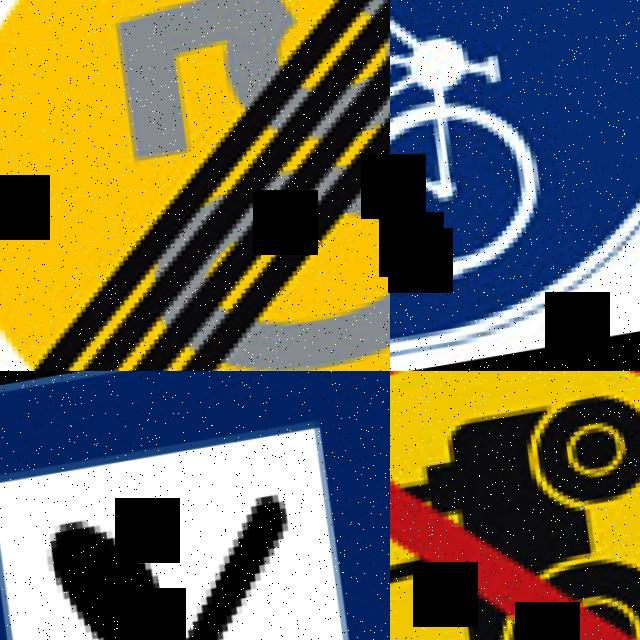124: (0, 0, 390, 371)
48: (390, 371, 640, 640)
90: (390, 0, 640, 371)
Restaurant: (0, 371, 390, 640)
